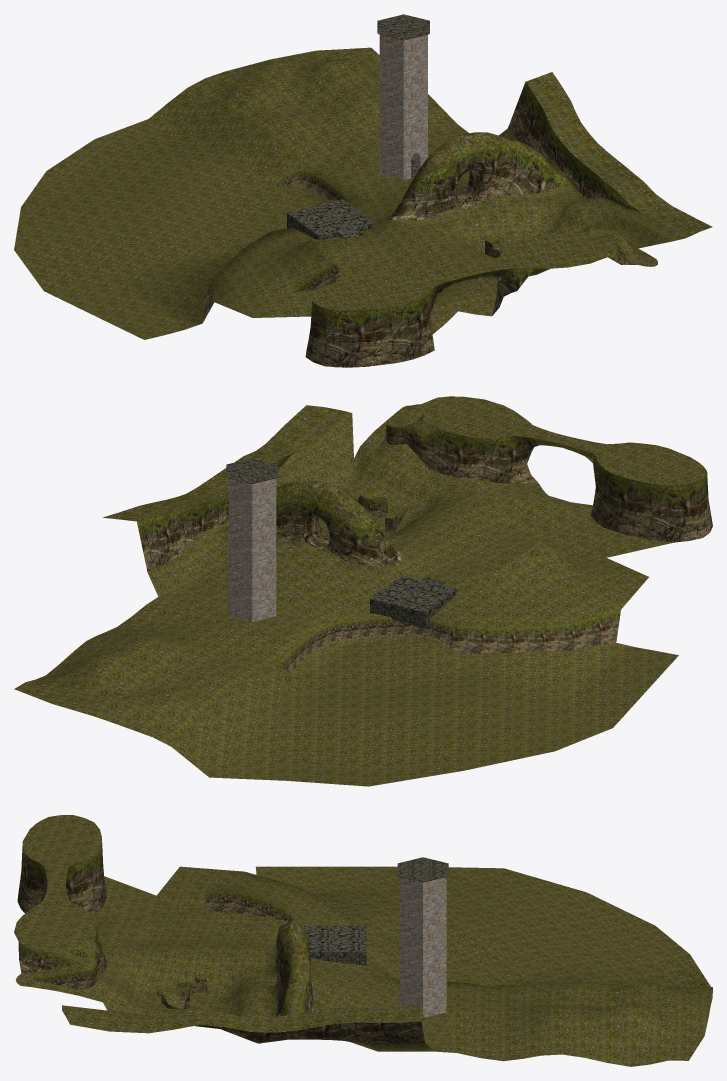
Rendered from theworld.obj.
3 views of the same model, one above another, from view 1: azimuth 30°, elevation 25°; view 2: azimuth 150°, elevation 25°; view 3: azimuth 270°, elevation 25° (orthographic). The views are drawn at different scales.
Visible parts, largest first — view 1: Plane.001_Plane.004; view 2: Plane.001_Plane.004; view 3: Plane.001_Plane.004.
Boxes of the visible parts, left/top/right/bottom form: Plane.001_Plane.004: left=14, top=14, right=712, bottom=367; Plane.001_Plane.004: left=14, top=396, right=712, bottom=786; Plane.001_Plane.004: left=14, top=815, right=712, bottom=1066.
Size of the model in its own units: 466 by 153 by 567.
